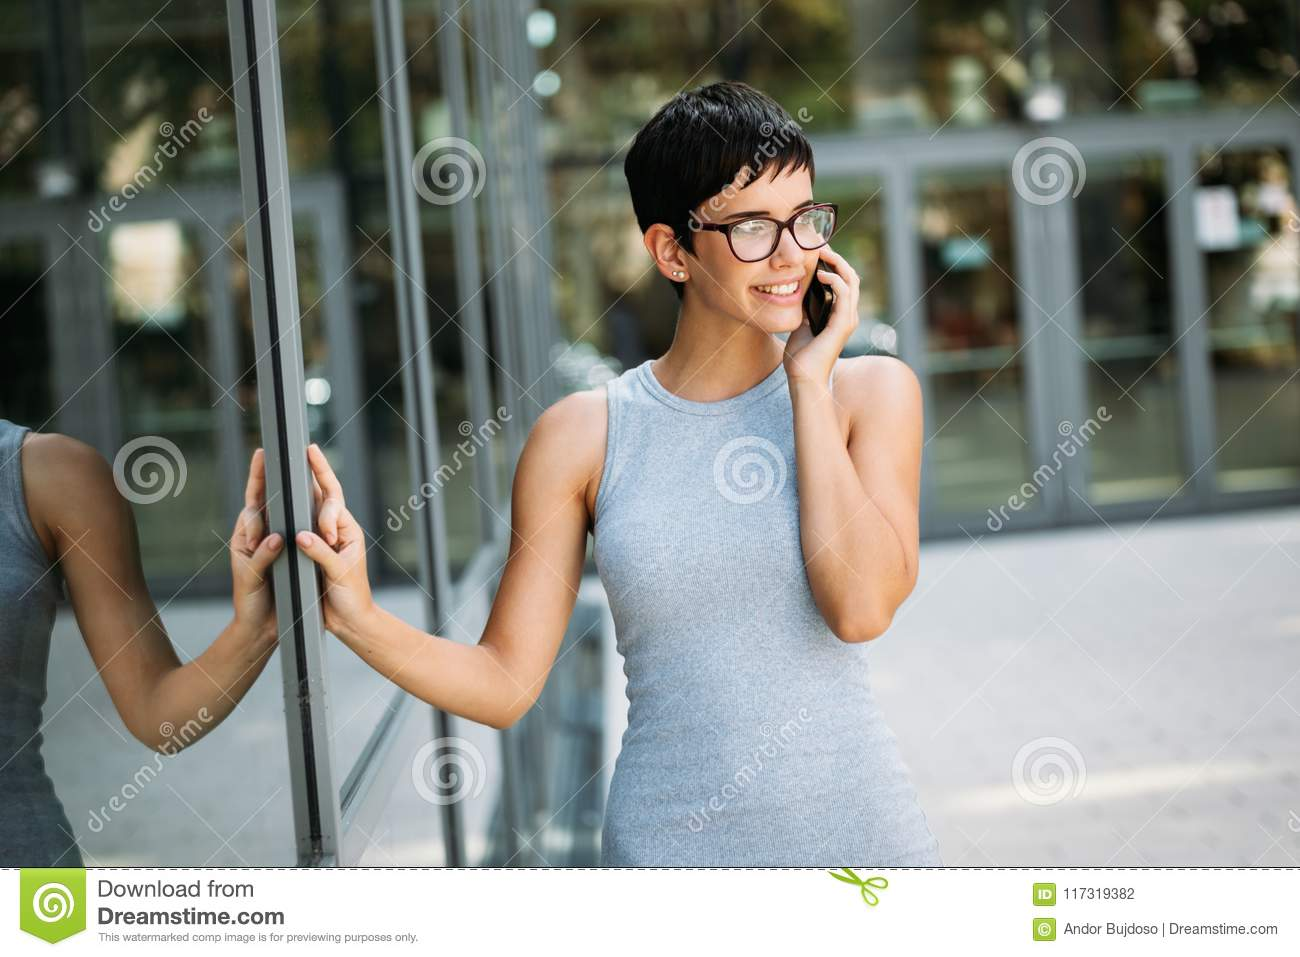phone: (804, 249, 839, 347)
talk: (712, 199, 865, 389)
